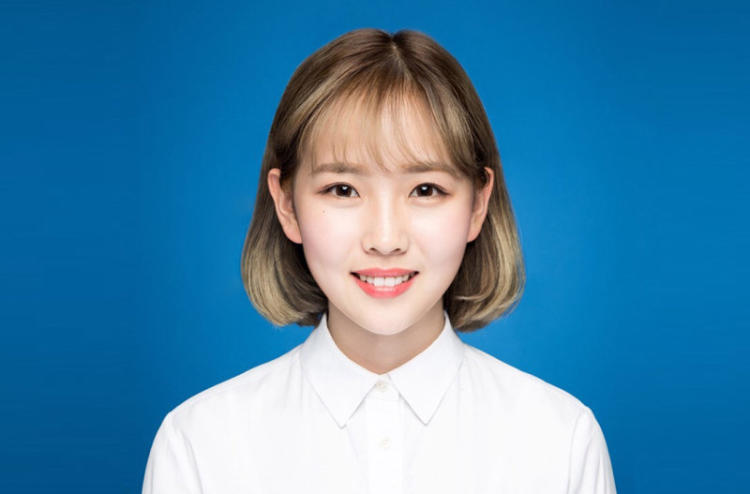unmask: (295, 136, 482, 341)
